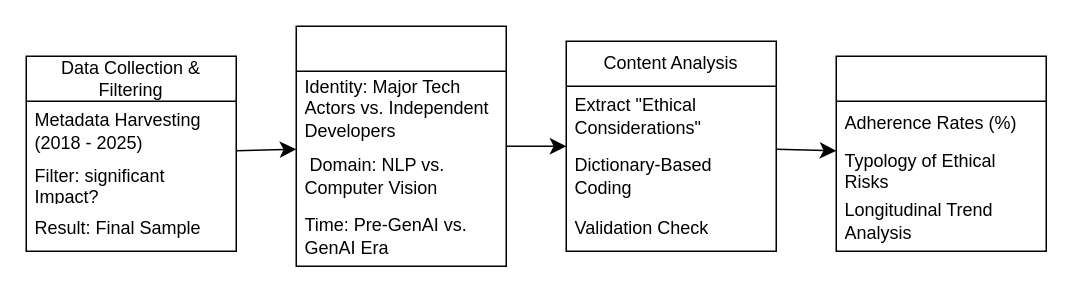
The diagram is 1073 pixels wide and 293 high, and some of its shapes have lost their labels. Each missing label, with the box of its shape:
Output Metrics: (835, 55, 1046, 251)
Stratification: (295, 25, 506, 266)
